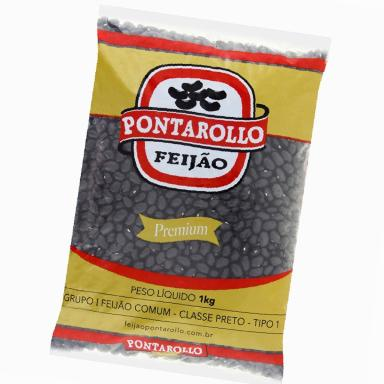beans package: (52, 8, 329, 382)
